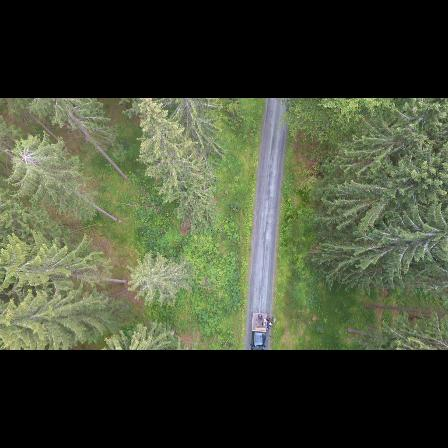Sick: (12, 138, 42, 176)
